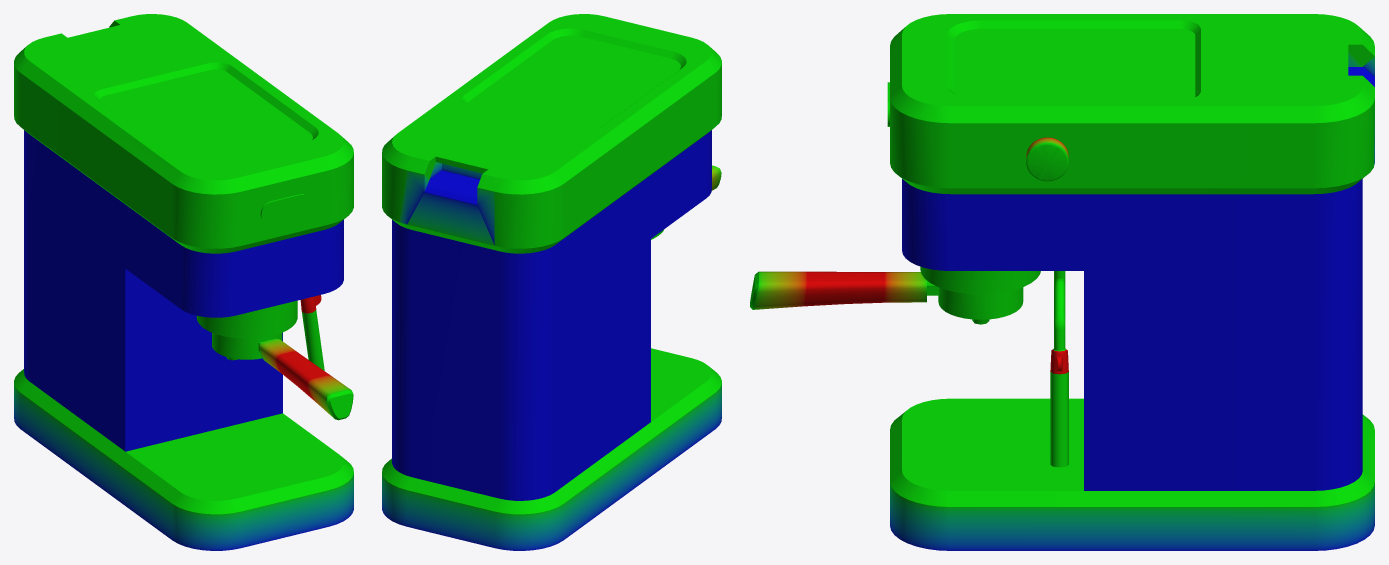
File: CoffeeMachine.fbx
3 views of the same model, side by side, from view 1: azimuth 30°, elevation 25°; view 2: azimuth 150°, elevation 25°; view 3: azimuth 270°, elevation 25° (orthographic). The views are drawn at different scales.
Parts seen in each view (by area): view 1: base lp.002; view 2: base lp.002; view 3: base lp.002.
Boxes of the visible parts, x1,y1,x2,y2 form: base lp.002: (14,14,353,550); base lp.002: (382,14,721,550); base lp.002: (750,14,1374,550).
Size of the model in its own units: 22.68 by 40 by 51.53.
